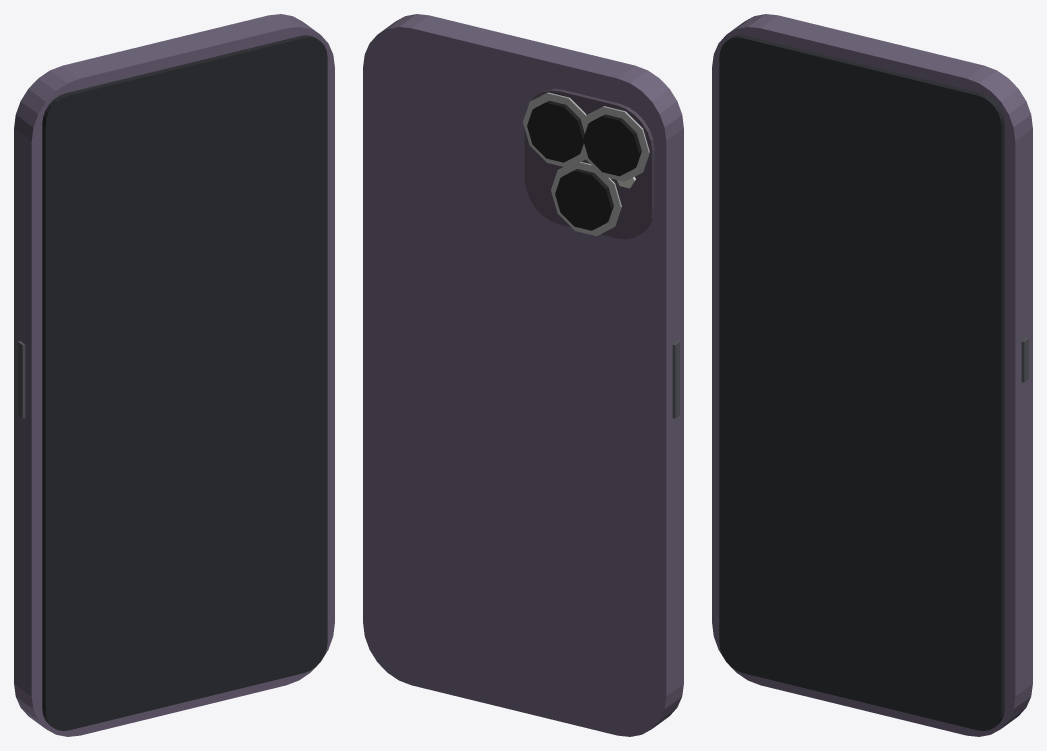
Rendered from 05_apple_iphone_14_pro_max.glb.
The picture shows the model from 3 angles, left to right: view 1: azimuth 30°, elevation 25°; view 2: azimuth 150°, elevation 25°; view 3: azimuth 330°, elevation 25°; orthographic projection.
Visible parts, largest first — view 1: geometry_1, geometry_0, geometry_3; view 2: geometry_0, geometry_5, geometry_6, geometry_10, geometry_8, geometry_7, geometry_11, geometry_9, geometry_3; view 3: geometry_1, geometry_0.
Boxes of the visible parts, left/top/right/bottom form: geometry_1: left=42, top=35, right=327, bottom=730; geometry_0: left=14, top=14, right=334, bottom=736; geometry_3: left=18, top=341, right=25, bottom=418; geometry_0: left=363, top=14, right=683, bottom=736; geometry_5: left=524, top=88, right=654, bottom=239; geometry_6: left=583, top=114, right=641, bottom=176; geometry_10: left=555, top=169, right=613, bottom=230; geometry_8: left=527, top=100, right=584, bottom=162; geometry_7: left=582, top=106, right=649, bottom=181; geometry_11: left=551, top=162, right=621, bottom=236; geometry_9: left=523, top=92, right=587, bottom=167; geometry_3: left=672, top=341, right=679, bottom=418; geometry_1: left=719, top=35, right=1004, bottom=730; geometry_0: left=712, top=14, right=1032, bottom=736.
Size of the model in its own units: 0.252 by 0.5157 by 0.0407.
